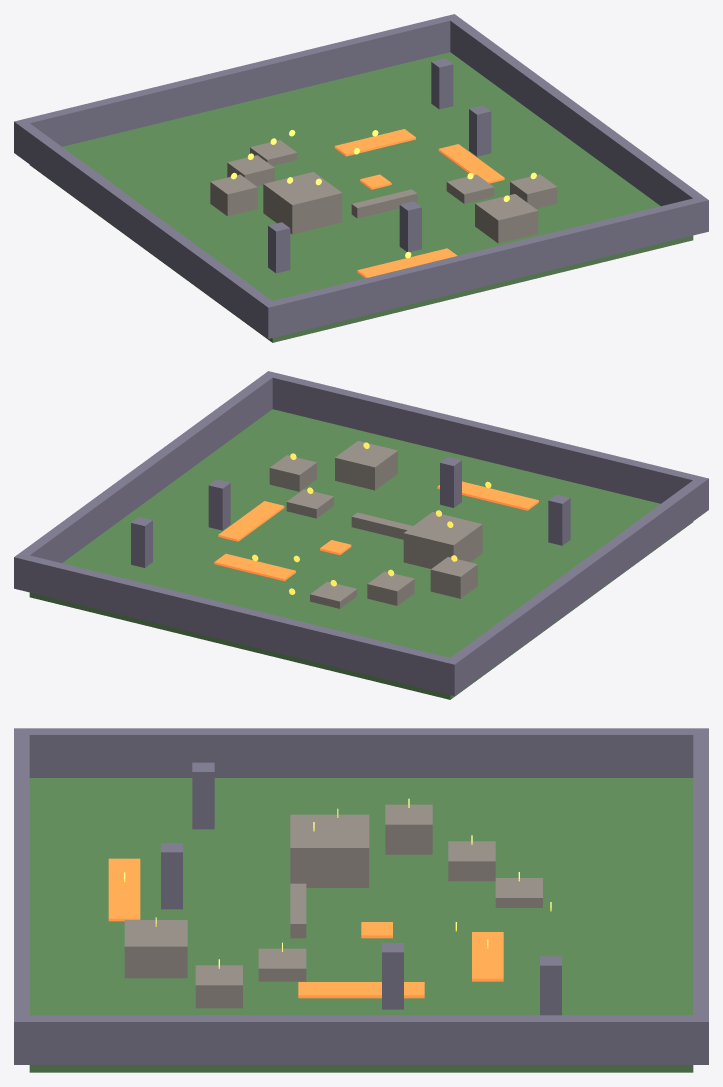
The model's file is level.glb.
3 renders of one model, top to bottom at view 1: azimuth 30°, elevation 25°; view 2: azimuth 150°, elevation 25°; view 3: azimuth 270°, elevation 25°, orthographic. The views are drawn at different scales.
Parts seen in each view (by area): view 1: Ground, Wall.N, Wall.S, Wall.W, Wall.E, Platform.4, Platform.7, Platform.3, Platform.6, Pillar.1, Pillar.2, Pillar.3 (+8 smaller); view 2: Ground, Wall.S, Wall.N, Wall.W, Wall.E, Platform.4, Platform.7, Platform.3, Platform.6, Platform.2, Pillar.1, Pillar.2 (+8 smaller); view 3: Ground, Wall.E, Wall.W, Platform.4, Wall.S, Wall.N, Platform.7, Platform.3, Platform.6, Hazard.3, Platform.2, Hazard.2 (+9 smaller).
Part boxes in pixels (x1=…): Ground: x1=30, y1=52, x2=693, y2=342; Wall.N: x1=262, y1=196, x2=708, y2=338; Wall.S: x1=14, y1=14, x2=459, y2=156; Wall.W: x1=14, y1=119, x2=278, y2=338; Wall.E: x1=445, y1=14, x2=708, y2=231; Platform.4: x1=263, y1=172, x2=342, y2=234; Platform.7: x1=475, y1=194, x2=538, y2=243; Platform.3: x1=210, y1=174, x2=257, y2=216; Platform.6: x1=510, y1=174, x2=557, y2=208; Pillar.1: x1=469, y1=105, x2=491, y2=156; Pillar.2: x1=268, y1=222, x2=290, y2=273; Pillar.3: x1=431, y1=58, x2=453, y2=109; Ground: x1=29, y1=409, x2=692, y2=699; Wall.S: x1=14, y1=553, x2=460, y2=695; Wall.N: x1=263, y1=371, x2=708, y2=510; Wall.W: x1=444, y1=476, x2=708, y2=695; Wall.E: x1=14, y1=372, x2=277, y2=588; Platform.4: x1=403, y1=512, x2=482, y2=568; Platform.7: x1=335, y1=441, x2=397, y2=490; Platform.3: x1=430, y1=557, x2=477, y2=598; Platform.6: x1=269, y1=455, x2=316, y2=491; Platform.2: x1=367, y1=571, x2=414, y2=605; Pillar.1: x1=208, y1=479, x2=230, y2=530; Pillar.2: x1=548, y1=494, x2=570, y2=545; Ground: x1=29, y1=778, x2=693, y2=1072; Wall.E: x1=14, y1=1015, x2=708, y2=1064; Wall.W: x1=14, y1=728, x2=708, y2=777; Platform.4: x1=290, y1=814, x2=369, y2=887; Wall.S: x1=693, y1=728, x2=708, y2=1064; Wall.N: x1=14, y1=728, x2=29, y2=1064; Platform.7: x1=124, y1=920, x2=187, y2=978; Platform.3: x1=385, y1=804, x2=432, y2=854; Platform.6: x1=195, y1=965, x2=242, y2=1008; Hazard.3: x1=108, y1=858, x2=140, y2=921; Platform.2: x1=448, y1=841, x2=495, y2=881; Hazard.2: x1=298, y1=982, x2=424, y2=998.
Bounding box in the file's own units: 44 × 5 × 44.
